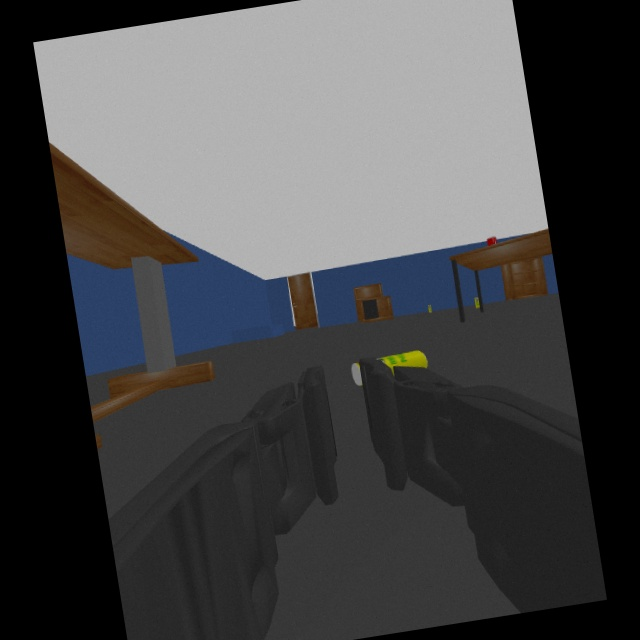chipsdose_gelb: (352, 350, 429, 386), (474, 297, 480, 308), (428, 304, 432, 314)
